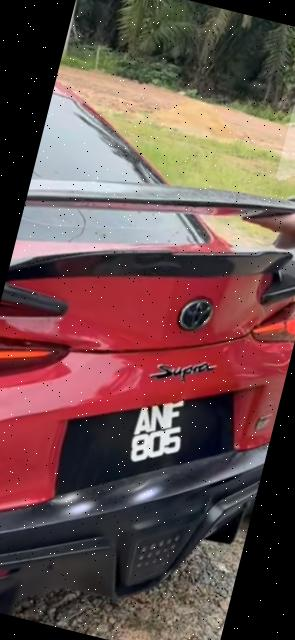License_Plate: (56, 345, 253, 531)
car: (1, 77, 295, 640)
